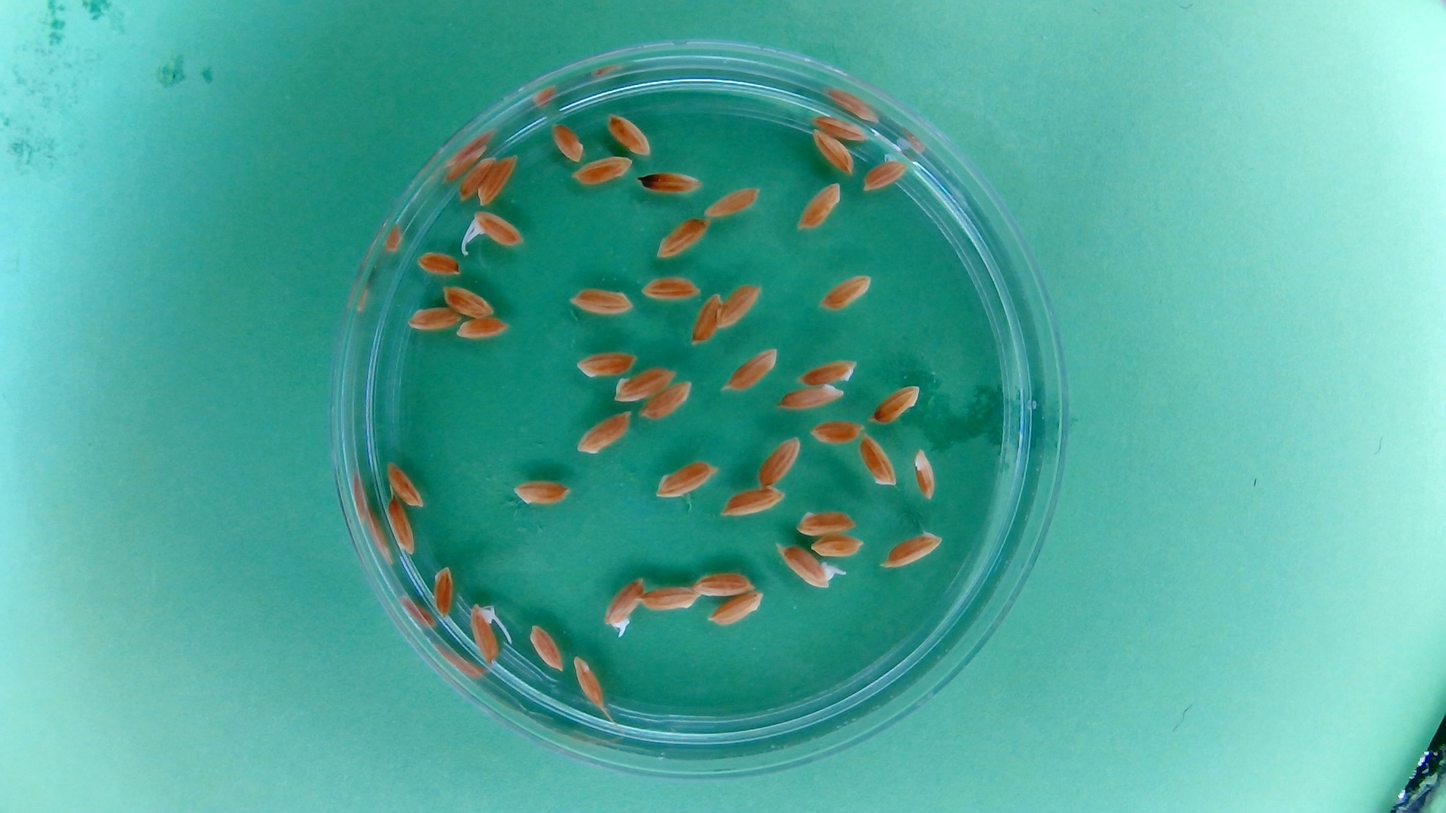no: (720, 346, 779, 395), (652, 458, 718, 501), (574, 409, 633, 456), (611, 364, 679, 403), (880, 529, 943, 571), (477, 151, 522, 209), (794, 180, 843, 233), (755, 434, 802, 489), (654, 215, 710, 261), (717, 484, 786, 521), (716, 281, 764, 333), (639, 379, 694, 423), (605, 108, 654, 157), (868, 381, 922, 425), (566, 285, 637, 318), (570, 654, 609, 714), (857, 432, 898, 489), (383, 456, 426, 510), (688, 568, 758, 601), (809, 127, 857, 175), (706, 589, 766, 627), (569, 153, 636, 187), (701, 183, 762, 220), (818, 272, 873, 312), (456, 152, 499, 203), (860, 153, 911, 196), (635, 168, 705, 199), (775, 383, 847, 413), (688, 291, 725, 349), (526, 620, 565, 675), (573, 348, 639, 380), (384, 494, 418, 556), (440, 282, 498, 318), (796, 356, 861, 388), (638, 273, 704, 304), (510, 477, 572, 509), (795, 507, 861, 537), (638, 583, 699, 615), (811, 111, 869, 142), (548, 118, 586, 164), (807, 417, 865, 447), (404, 304, 463, 333), (428, 563, 457, 621), (453, 315, 511, 343), (807, 533, 865, 559), (413, 248, 463, 278), (911, 445, 938, 500)
yes: (776, 543, 837, 590), (602, 574, 645, 634), (464, 209, 526, 248), (471, 599, 499, 671)
